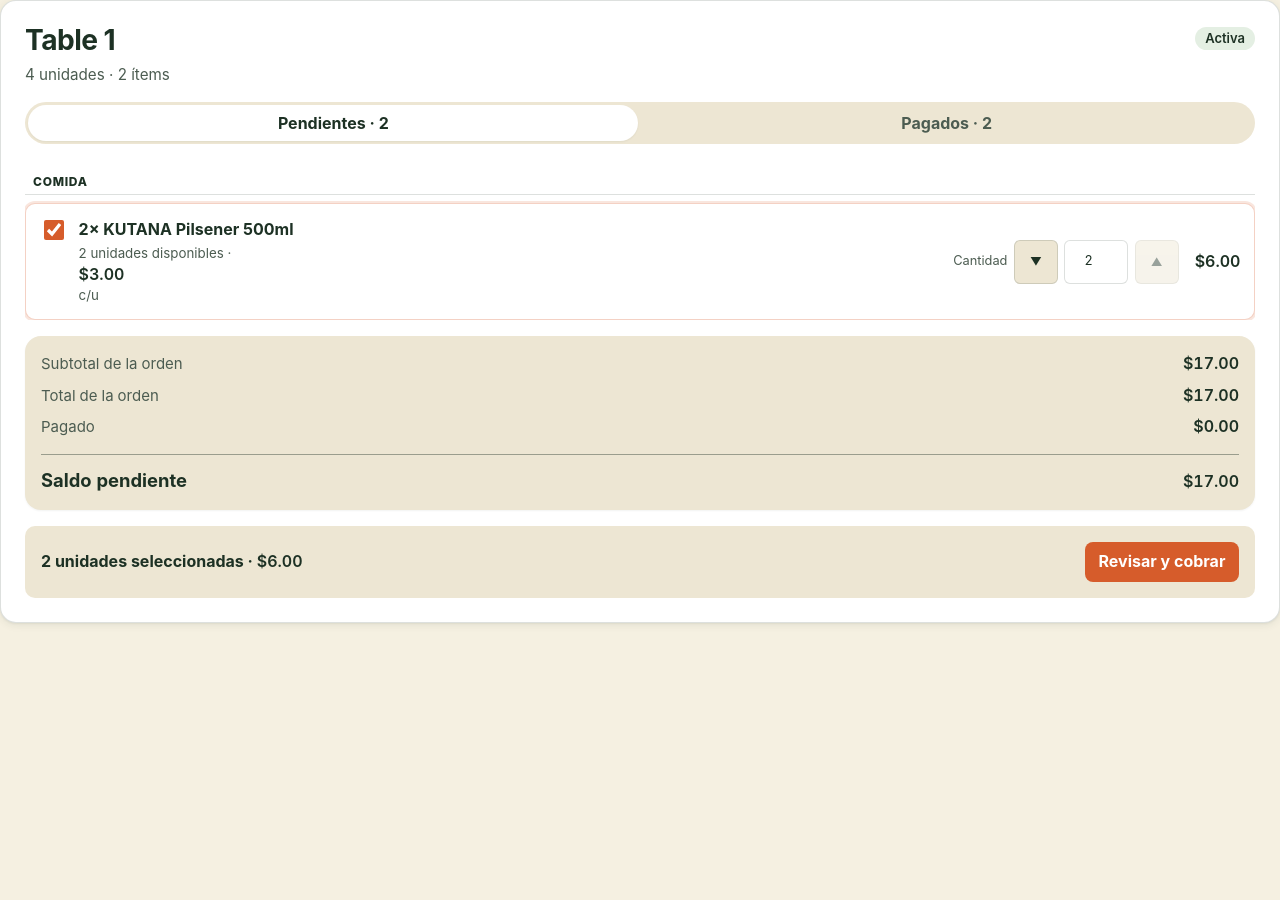
OrderTicketPanel › uses the pending segment when paid and pending segments share an id
The image size is (1280, 900).
Expected: the text "$6.00" in the row of "Cantidad" is shown, [1195, 251, 1240, 271]
Click the button "Revisar y cobrar" at (1162, 562), box [1085, 542, 1239, 582]
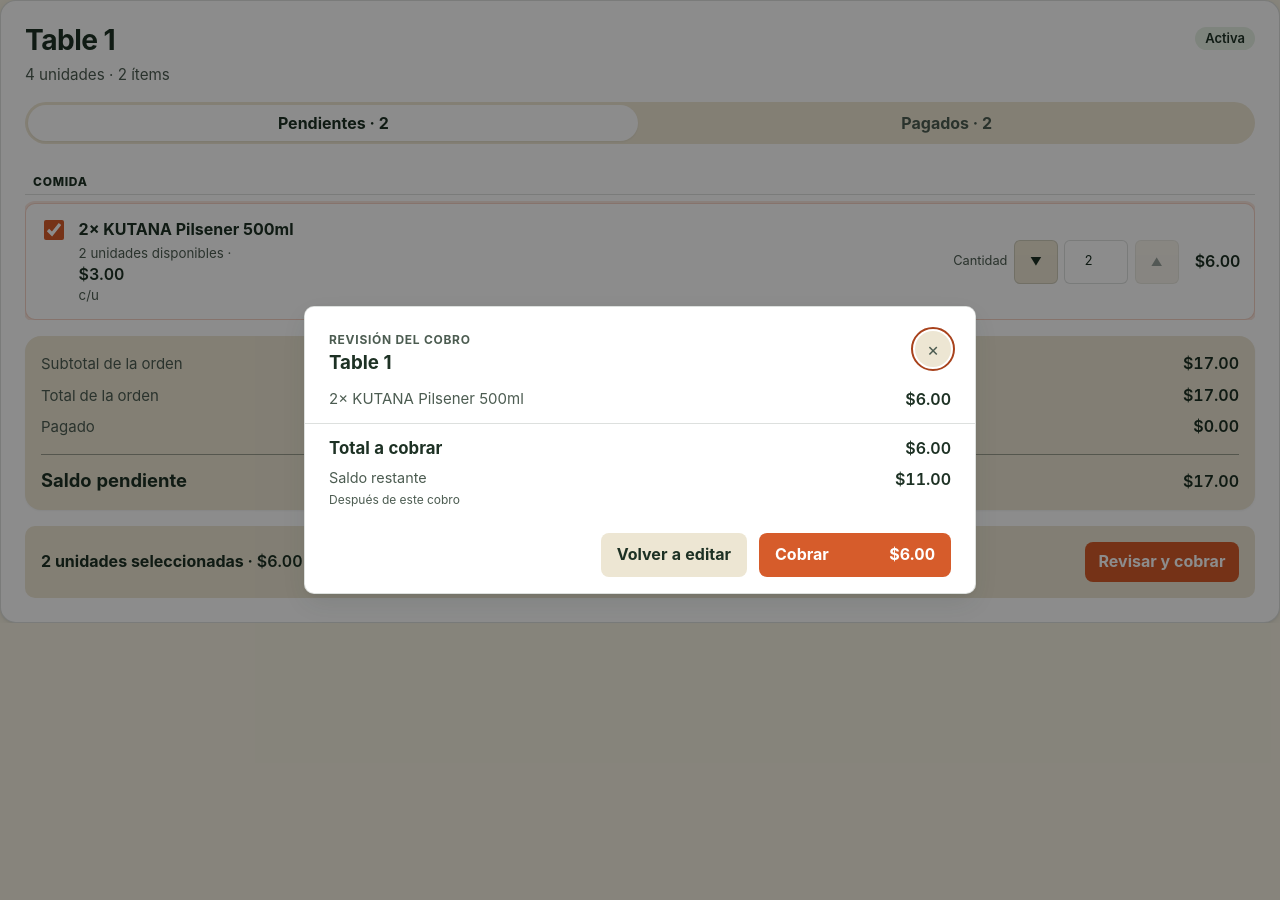
Expected: the dialog does not show "$10.00", [304, 306, 976, 594]
Result: the dialog shows "Total a cobrar" at [329, 438, 442, 458]
Result: the dialog shows "$6.00" at [905, 389, 951, 409]
